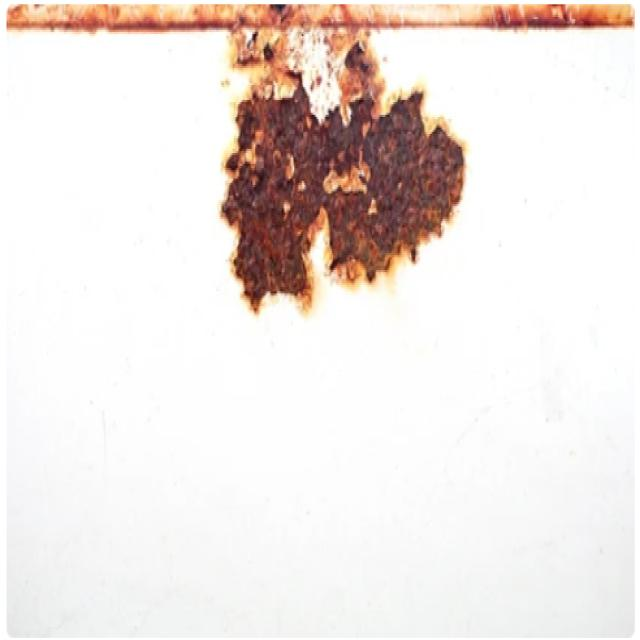corrosion: (0, 0, 640, 317)
